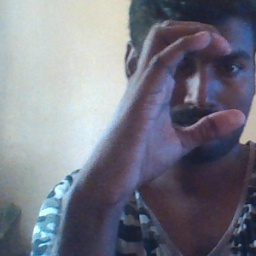C: (145, 19, 249, 140)
